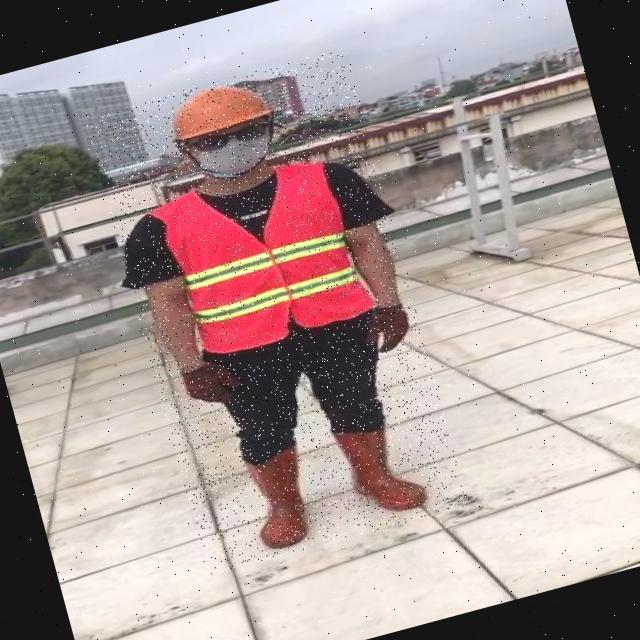boots: (324, 408, 428, 526), (236, 443, 321, 552)
helmet: (160, 72, 282, 146)
vest: (143, 151, 370, 363)
